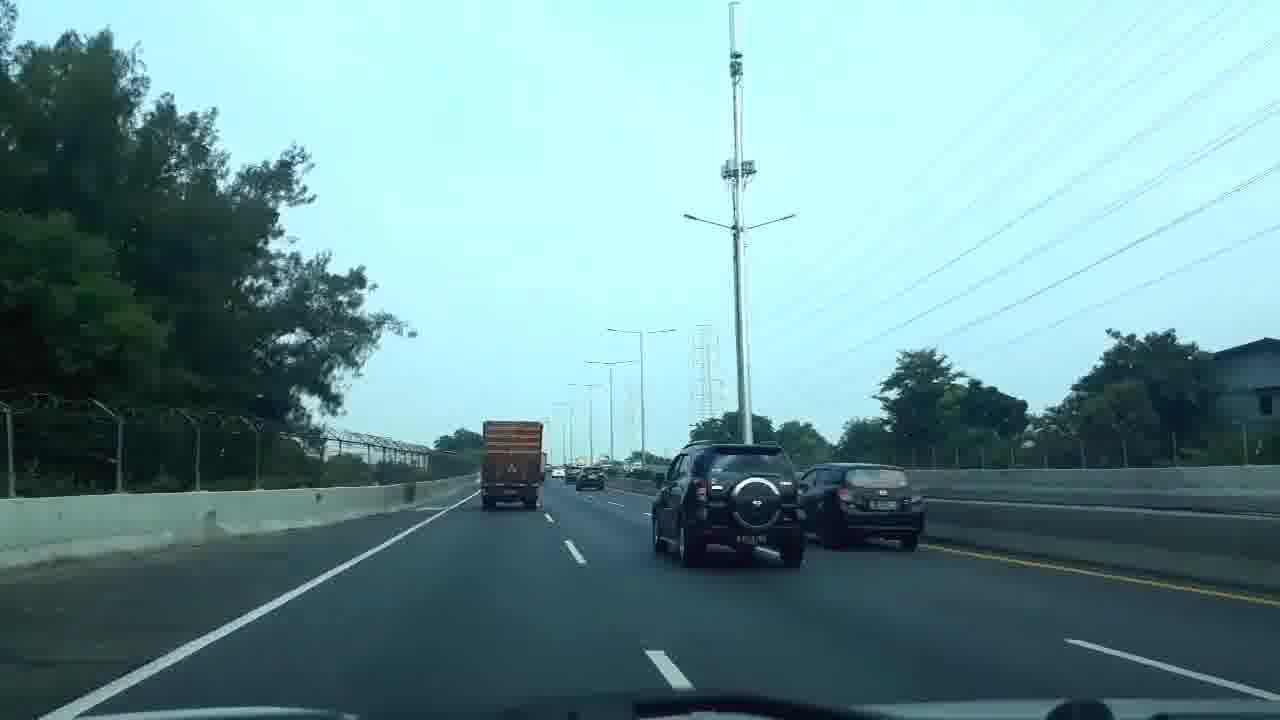plate_positive: (736, 534, 768, 546), (868, 499, 897, 511)
